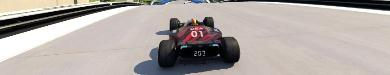Car: (157, 16, 240, 67)
obstacles-Borders: (0, 1, 143, 41)
